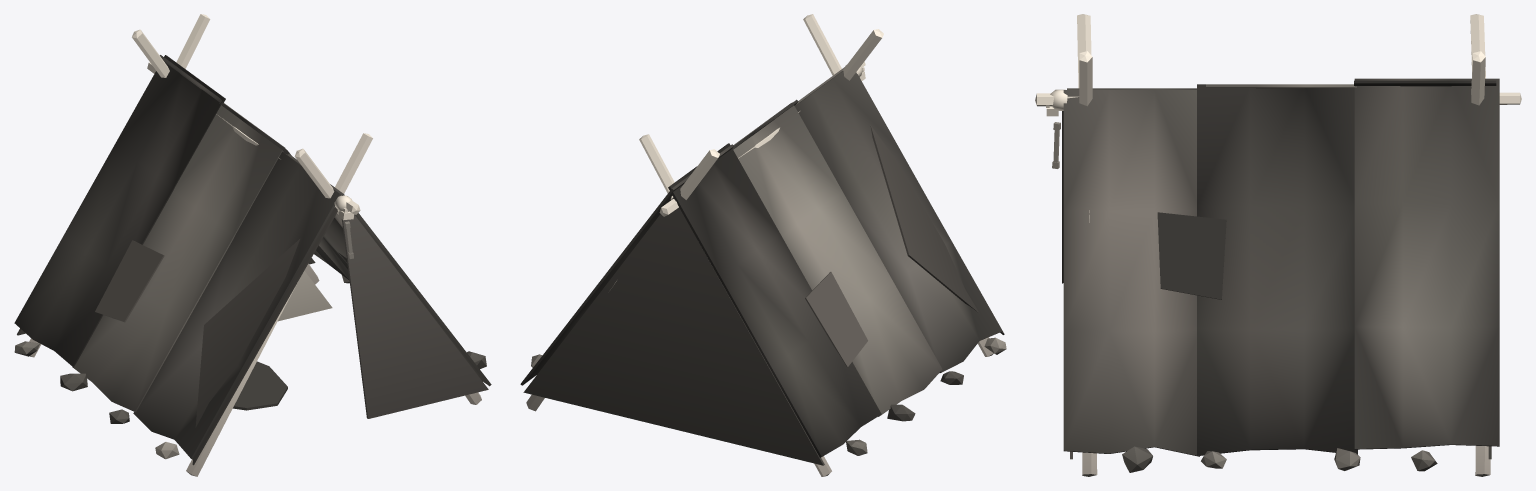
File: SM_VKI_Prop_Goblin_Tent.fbx
The picture shows the model from 3 angles, left to right: view 1: azimuth 30°, elevation 25°; view 2: azimuth 150°, elevation 25°; view 3: azimuth 270°, elevation 25°; orthographic projection. The views are drawn at different scales.
Parts seen in each view (by area): view 1: SM_VKI_Prop_Goblin_Tent.001; view 2: SM_VKI_Prop_Goblin_Tent.001; view 3: SM_VKI_Prop_Goblin_Tent.001.
Boxes of the visible parts, <box> form: SM_VKI_Prop_Goblin_Tent.001: <box>14,14,491,476</box>; SM_VKI_Prop_Goblin_Tent.001: <box>520,14,1006,476</box>; SM_VKI_Prop_Goblin_Tent.001: <box>1035,14,1521,476</box>.
Bounding box in the file's own units: 3.06 × 2.53 × 3.09.
